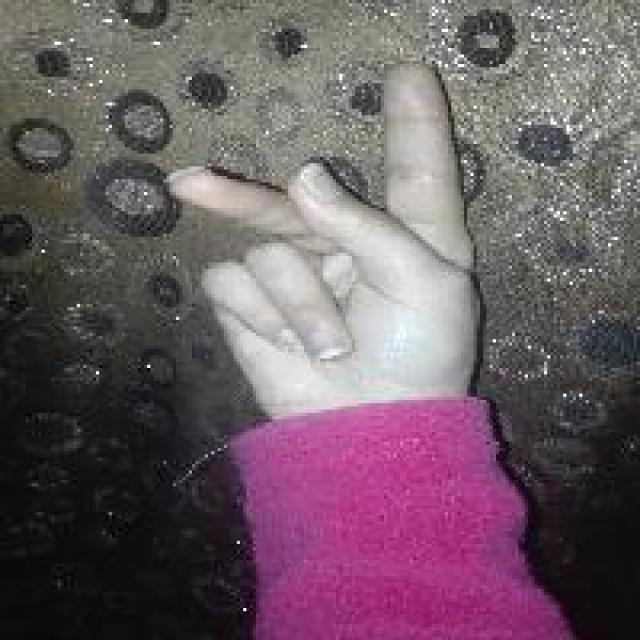K: (142, 54, 488, 390)
